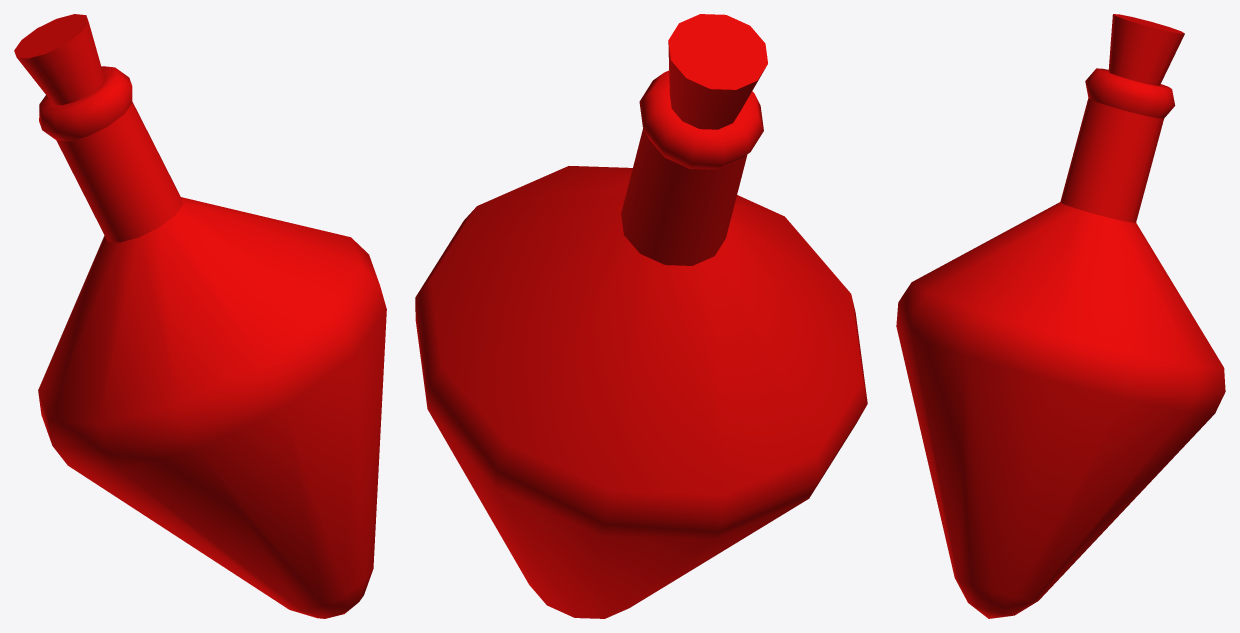
File: Potions_03.fbx
3 views of the same model, side by side, from view 1: azimuth 30°, elevation 25°; view 2: azimuth 150°, elevation 25°; view 3: azimuth 270°, elevation 25° (orthographic). The views are drawn at different scales.
Visible parts, largest first — view 1: Potion_03; view 2: Potion_03; view 3: Potion_03.
Part boxes in pixels (box(x1,y1,x2,y2)): Potion_03: box(14, 14, 386, 618); Potion_03: box(415, 14, 867, 618); Potion_03: box(896, 14, 1225, 618).
Size of the model in its own units: 0.2714 by 0.2799 by 0.489.
